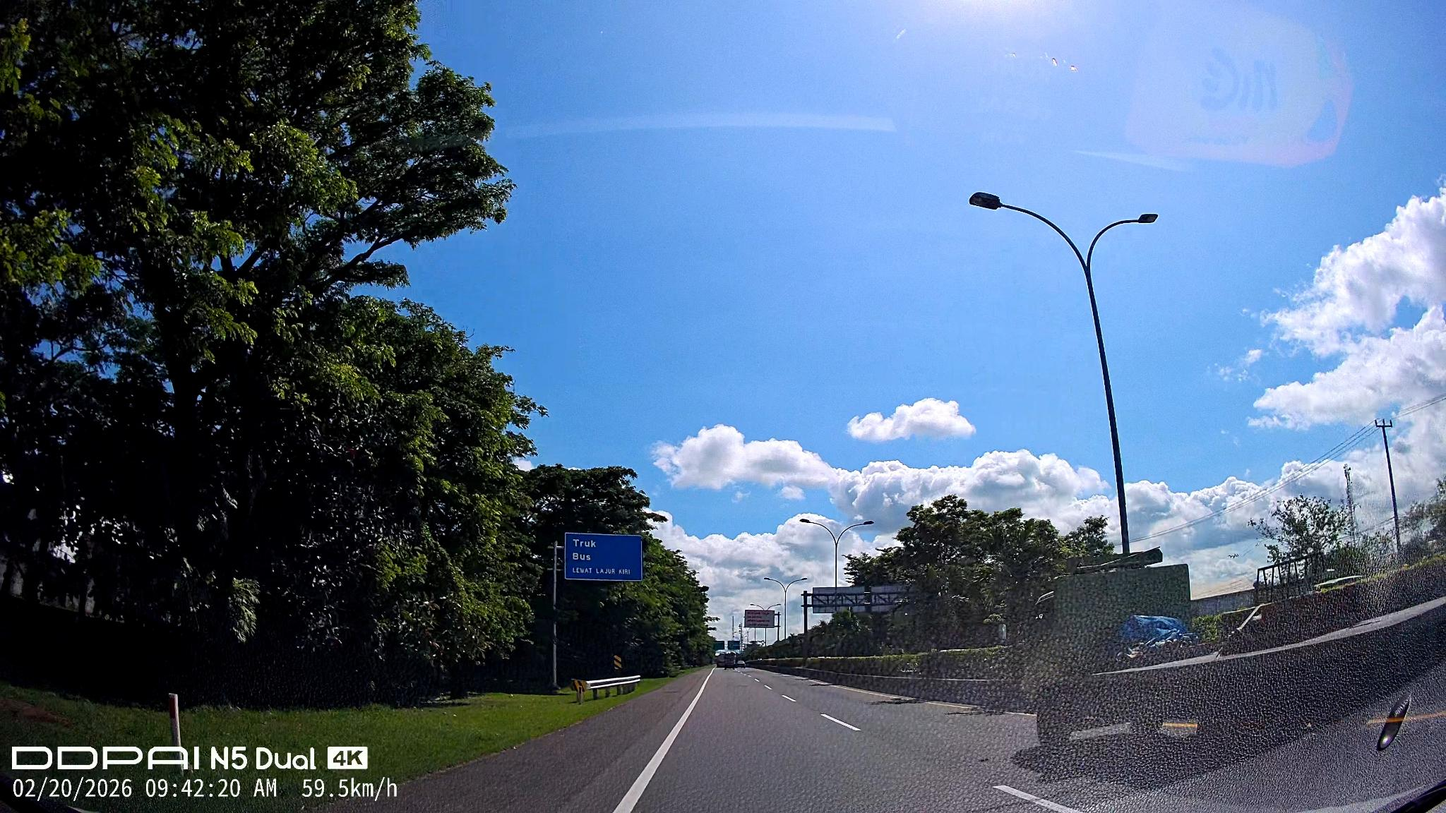rambu_teks: (564, 532, 643, 582)
